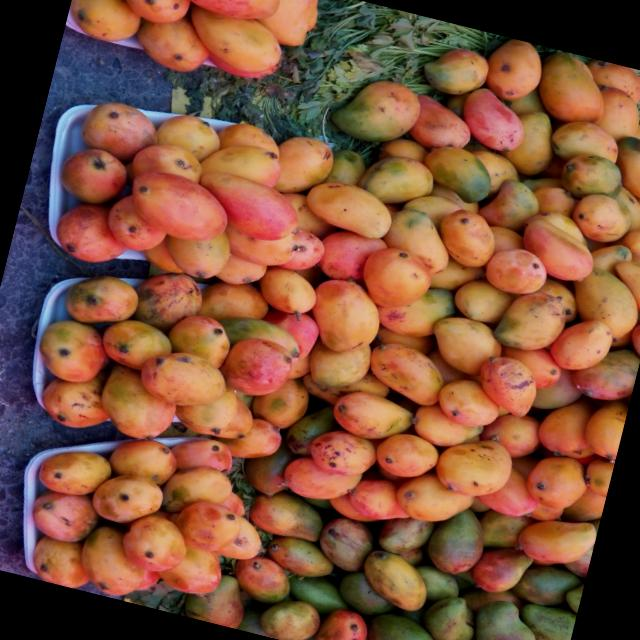onion: (120, 162, 235, 250), (188, 166, 300, 247), (178, 1, 286, 82), (328, 68, 426, 153), (90, 360, 182, 446), (528, 46, 612, 130), (73, 94, 163, 170), (559, 262, 640, 344), (373, 202, 458, 280), (302, 274, 385, 352), (49, 193, 134, 269), (429, 430, 516, 504), (302, 176, 399, 242), (489, 280, 570, 358), (352, 240, 434, 316), (32, 312, 114, 388), (212, 328, 296, 402), (514, 214, 600, 286), (359, 337, 449, 405), (388, 464, 476, 532), (512, 507, 598, 574), (453, 84, 532, 156), (85, 464, 166, 534), (326, 383, 416, 446), (54, 141, 132, 213), (352, 546, 433, 615), (354, 146, 436, 214), (414, 140, 496, 208), (24, 482, 103, 550), (32, 440, 114, 505), (114, 508, 190, 578), (476, 33, 547, 106), (298, 330, 376, 396), (245, 484, 328, 546), (426, 310, 506, 374), (266, 129, 336, 202), (276, 450, 361, 510), (428, 204, 501, 272), (544, 308, 616, 376), (519, 447, 591, 514), (404, 92, 477, 157), (301, 422, 380, 482), (417, 39, 491, 103), (477, 240, 551, 302), (160, 308, 233, 370), (366, 425, 442, 484), (430, 372, 505, 431), (563, 188, 634, 249), (466, 538, 534, 601), (63, 0, 150, 49), (214, 409, 283, 467), (254, 262, 321, 320), (264, 532, 338, 584), (228, 550, 294, 608), (246, 370, 308, 430), (256, 591, 324, 640), (172, 0, 283, 28), (109, 0, 196, 30)
